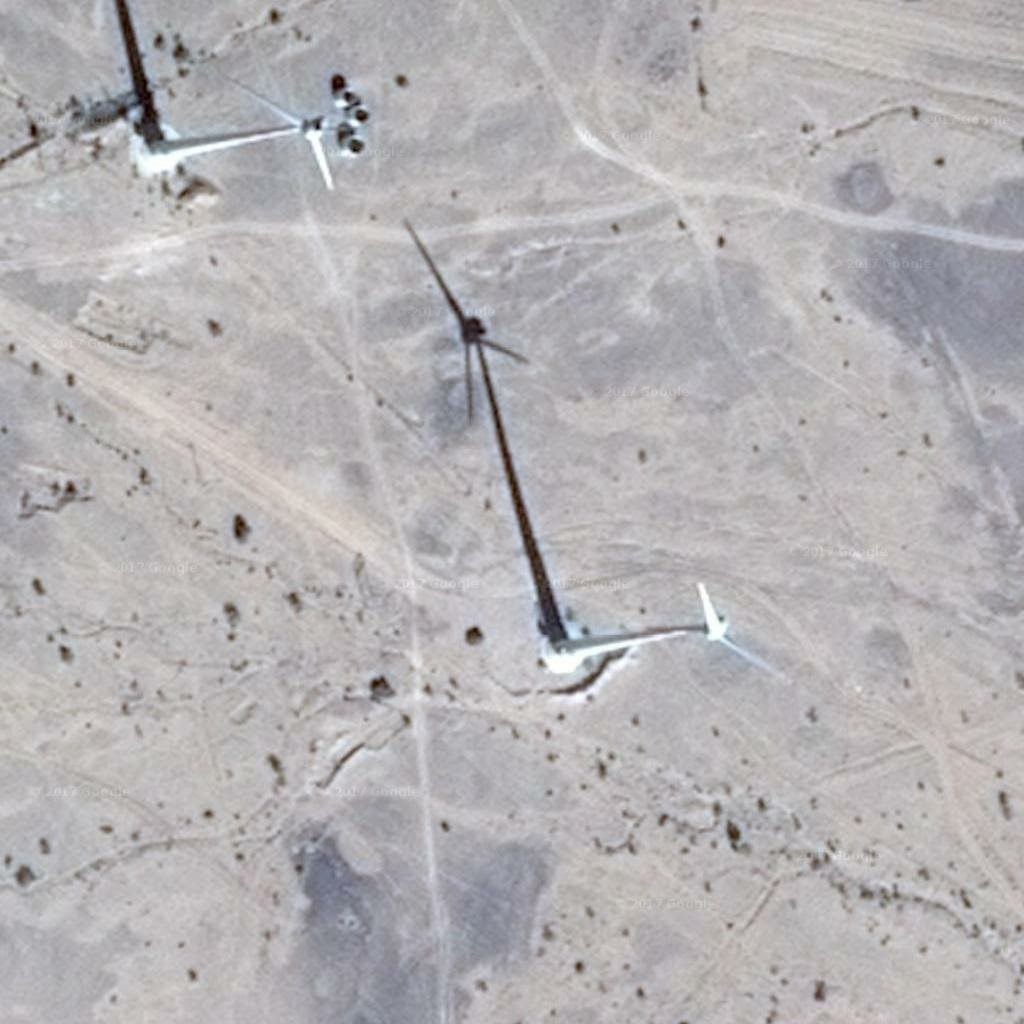Windmill: (404, 224, 584, 659)
